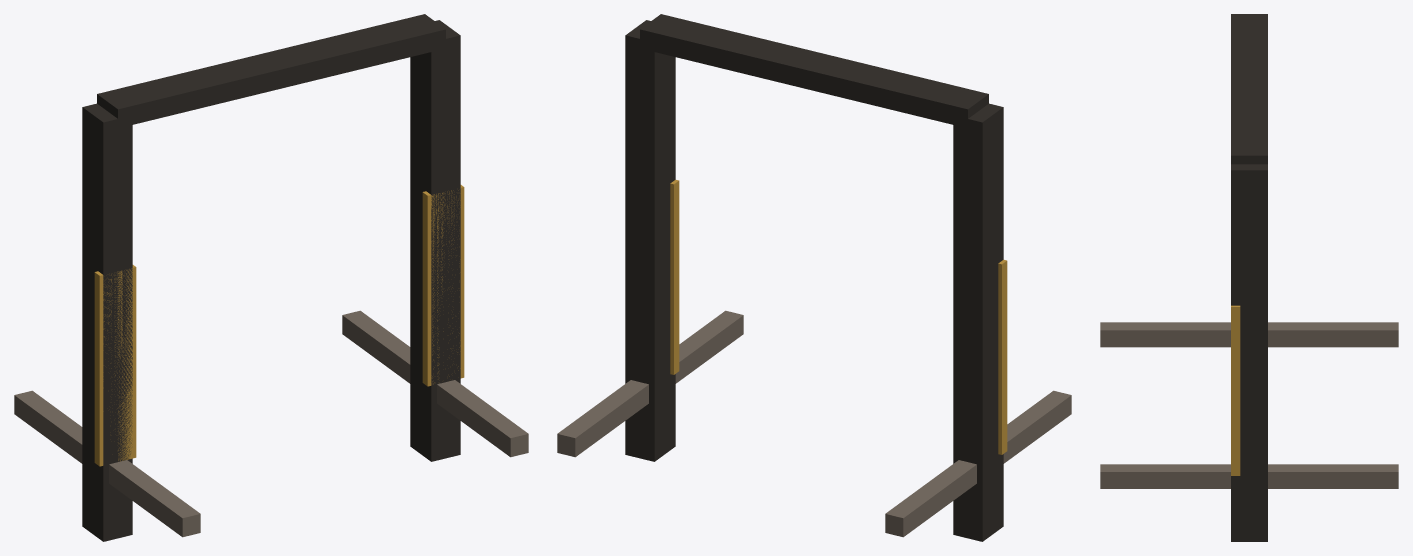
Rendered from work_lift_arm.glb.
3 views of the same model, side by side, from view 1: azimuth 30°, elevation 25°; view 2: azimuth 150°, elevation 25°; view 3: azimuth 270°, elevation 25° (orthographic). The views are drawn at different scales.
Visible parts, largest first — view 1: sw5e_int_work_lift_arm; view 2: sw5e_int_work_lift_arm; view 3: sw5e_int_work_lift_arm.
Boxes of the visible parts, x1,y1,x2,y2 form: sw5e_int_work_lift_arm: (14,14,528,541); sw5e_int_work_lift_arm: (557,14,1071,541); sw5e_int_work_lift_arm: (1100,14,1398,541).
Bounding box in the file's own units: 2 × 2.25 × 1.6.
